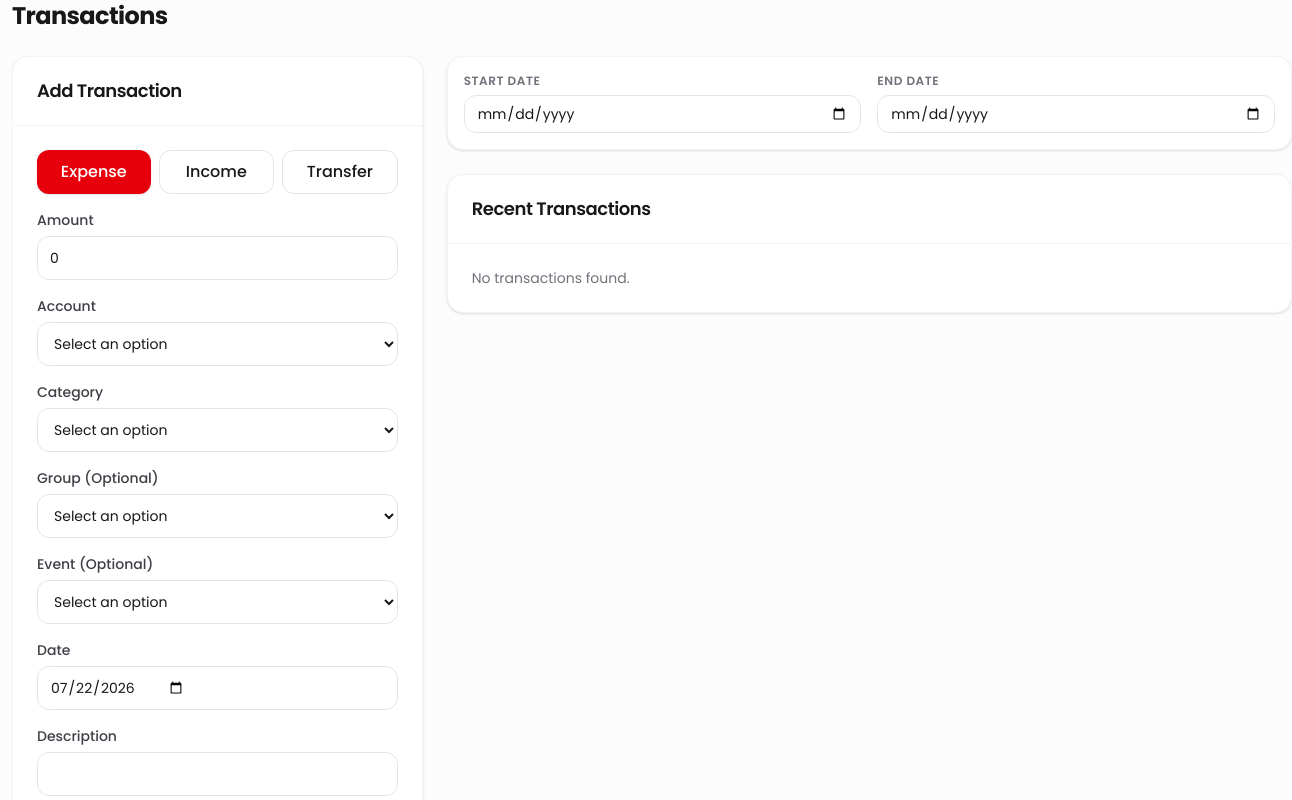
Test: Transactions Page › switches between income and expense
Note: Simulate clicking the "Income" button
Click the button "Income". click: (216, 172)
box: [158, 150, 274, 194]
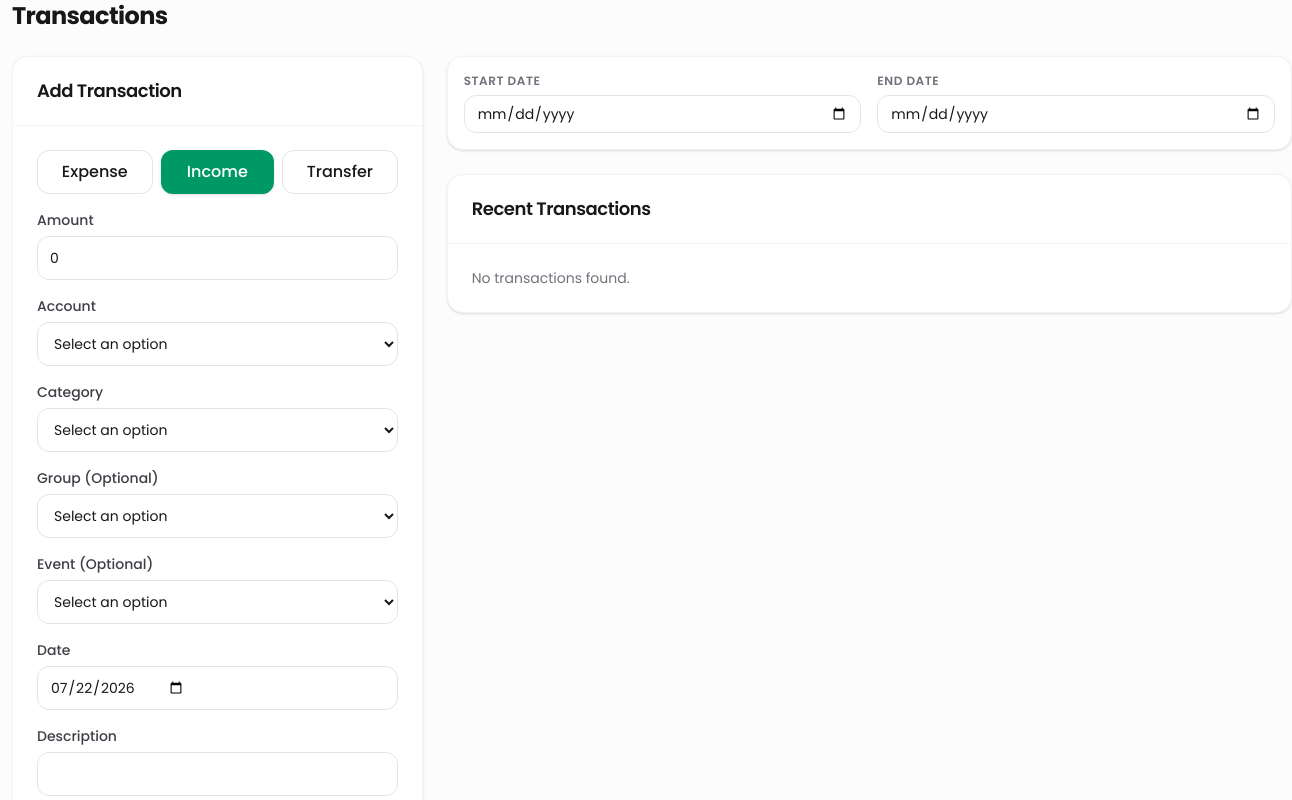
Note: Simulate clicking the "Expense" button
Click the button "Expense". click: (95, 172)
box: [37, 150, 152, 194]
(page scrolled)
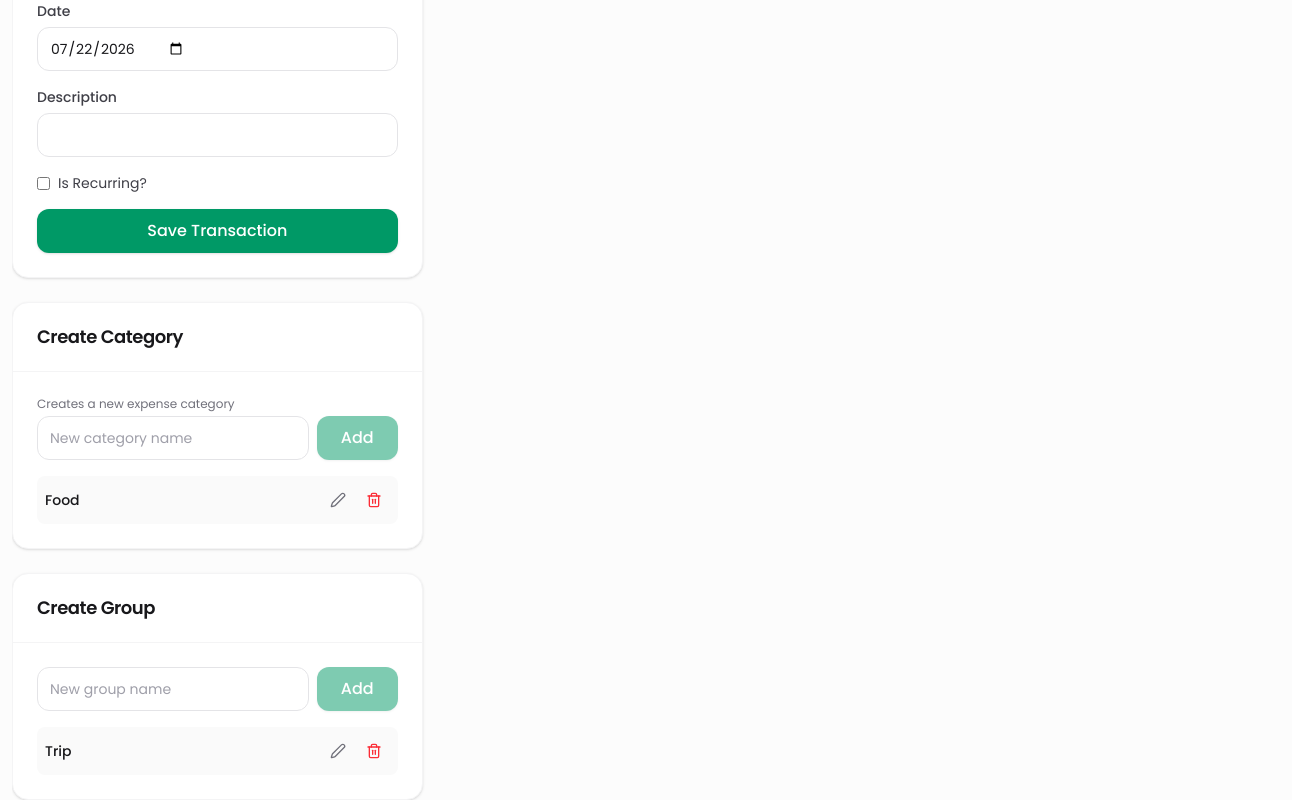
Expected: the text "Creates a new expense category" is shown, [37, 395, 235, 412]
